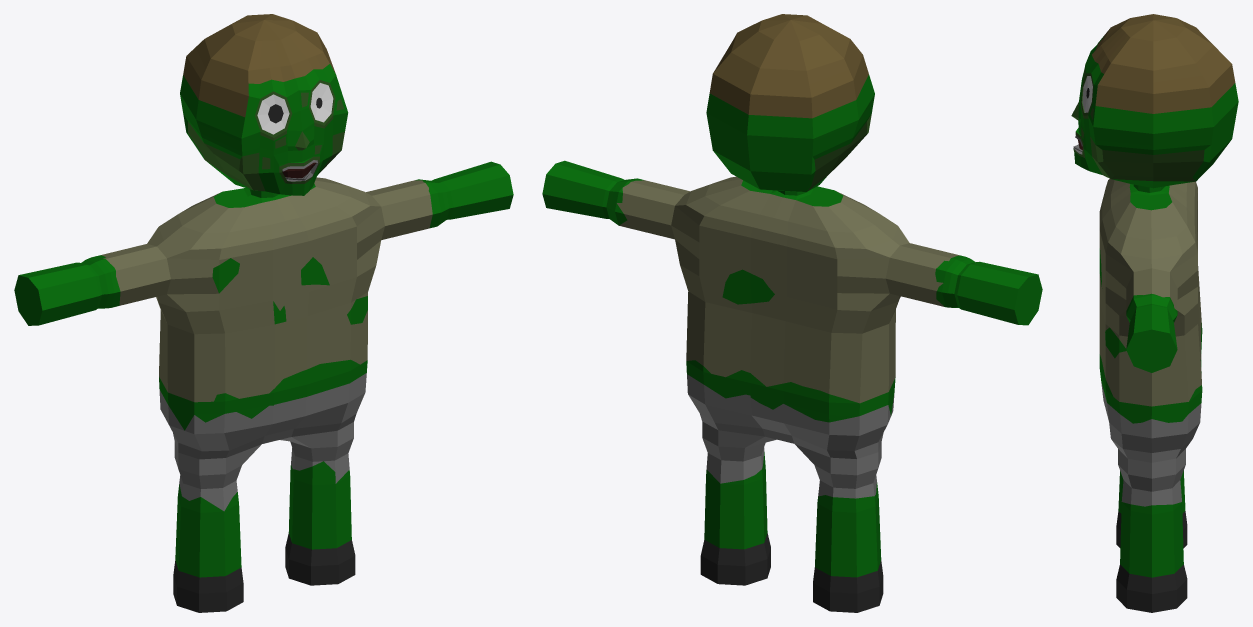
The model's file is Zombie V2.fbx.
3 views of the same model, side by side, from view 1: azimuth 30°, elevation 25°; view 2: azimuth 150°, elevation 25°; view 3: azimuth 270°, elevation 25° (orthographic). The views are drawn at different scales.
Parts seen in each view (by area): view 1: v1 Zombie(REG); view 2: v1 Zombie(REG); view 3: v1 Zombie(REG).
Boxes of the visible parts, x1,y1,x2,y2 form: v1 Zombie(REG): (14, 14, 513, 612); v1 Zombie(REG): (542, 14, 1042, 612); v1 Zombie(REG): (1071, 14, 1238, 612).
Bounding box in the file's own units: 2331 × 2660 × 732.
